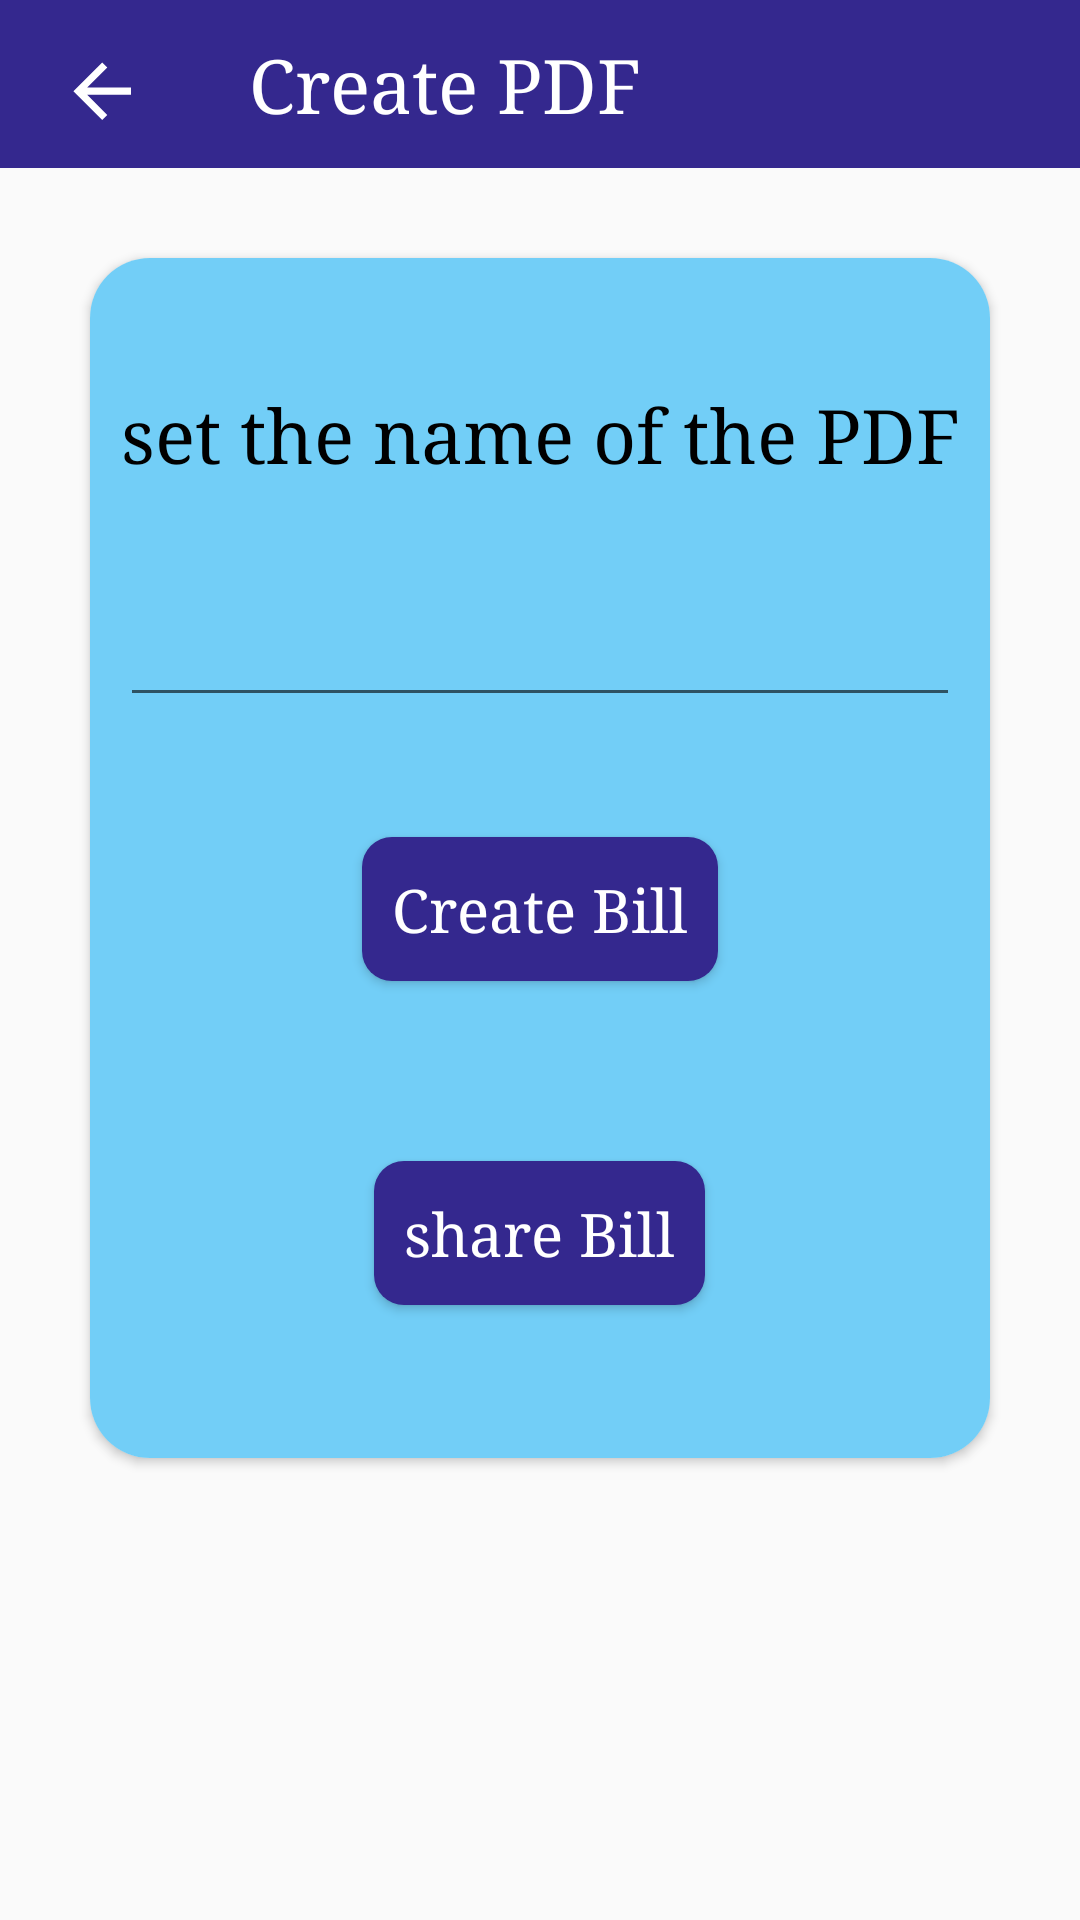

Screen size 1080 × 1920. Icon name, then its center in pixels as (x=x, y=y):
arrow back: (x=102, y=91)
